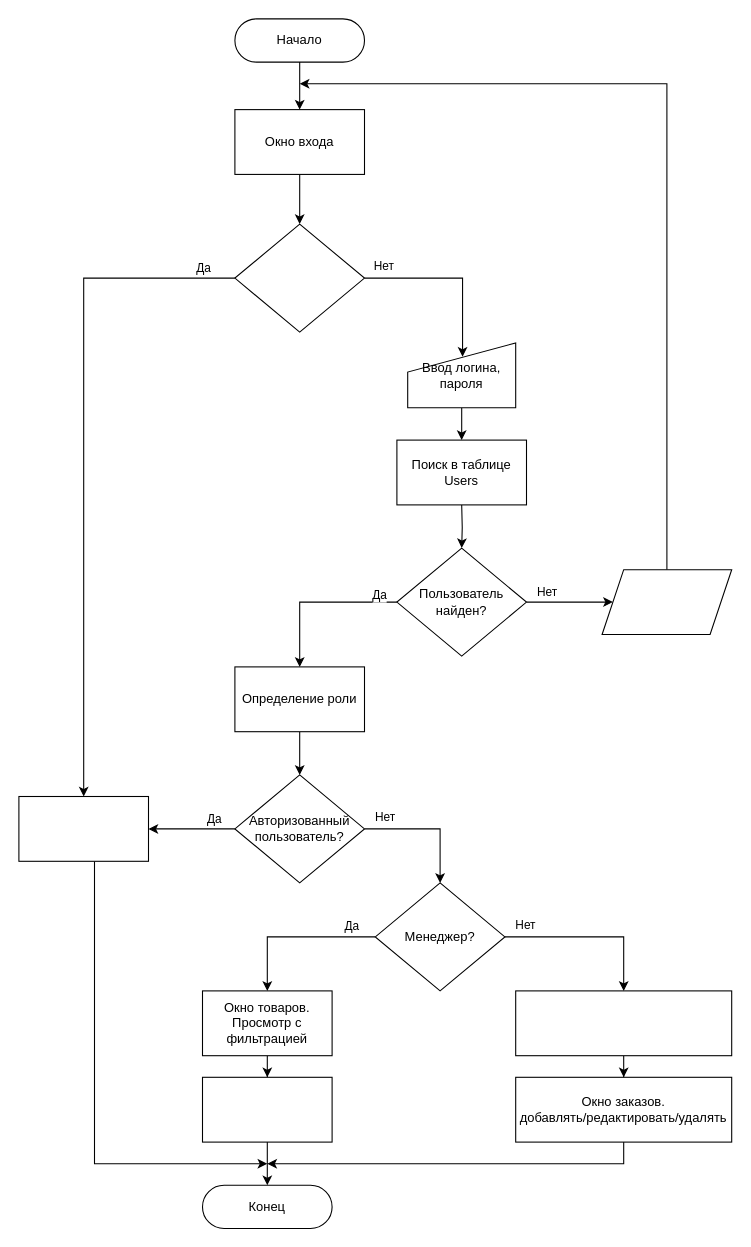
Some shapes in this 751 by 1247 pixel diagram are drawn without their labels. The shapes that lost their labels are listed below. From the top down, each one's box as (x1, y1, x2, y2) in pixels, then its label:
(234, 223, 364, 332): Зайти гостем?
(601, 569, 732, 634): Сообщение об ошибке
(18, 795, 148, 861): Окно товаров. Просмотр без фильтрации
(515, 990, 732, 1056): Окно товаров. Просмотр с фильтрацией/ добавлять/редактировать/удалять
(201, 1076, 332, 1142): Окно заказов. Просмотр
